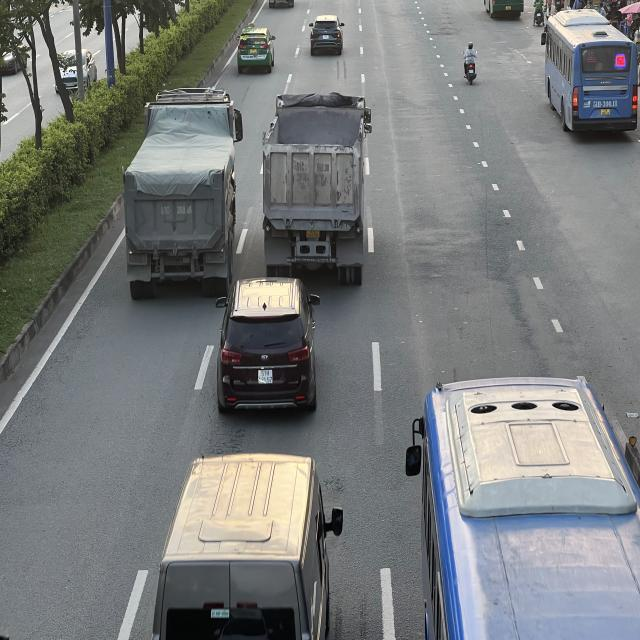car: (217, 278, 321, 416), (237, 26, 276, 74), (310, 13, 349, 54)
coach: (410, 379, 640, 640), (542, 12, 638, 136)
container: (121, 86, 241, 298), (260, 93, 368, 286)
van: (157, 453, 347, 640)
